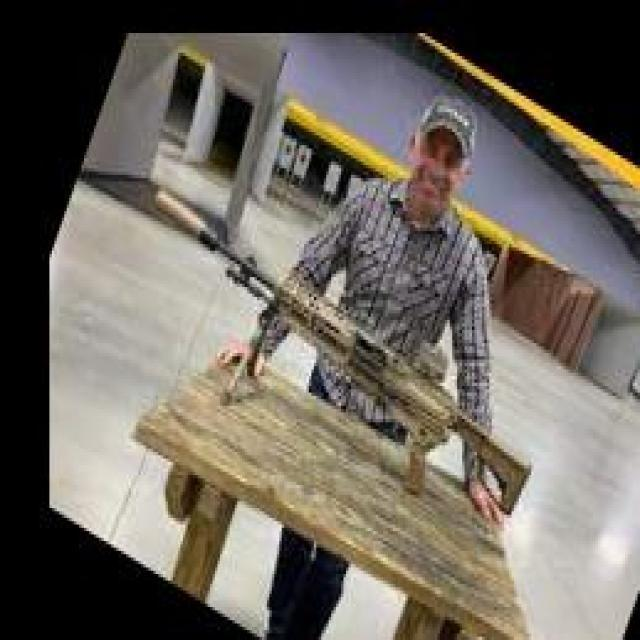Rifle: (151, 188, 537, 518)
